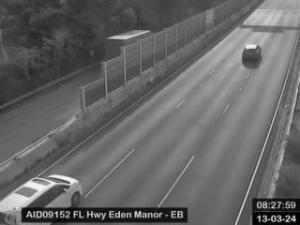bus: (104, 30, 150, 70)
vehicle: (1, 174, 83, 224), (242, 44, 262, 61)
